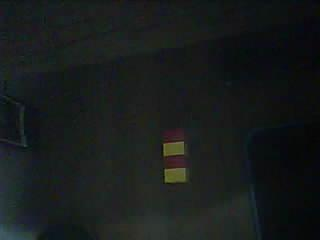lego: (162, 129, 190, 183)
